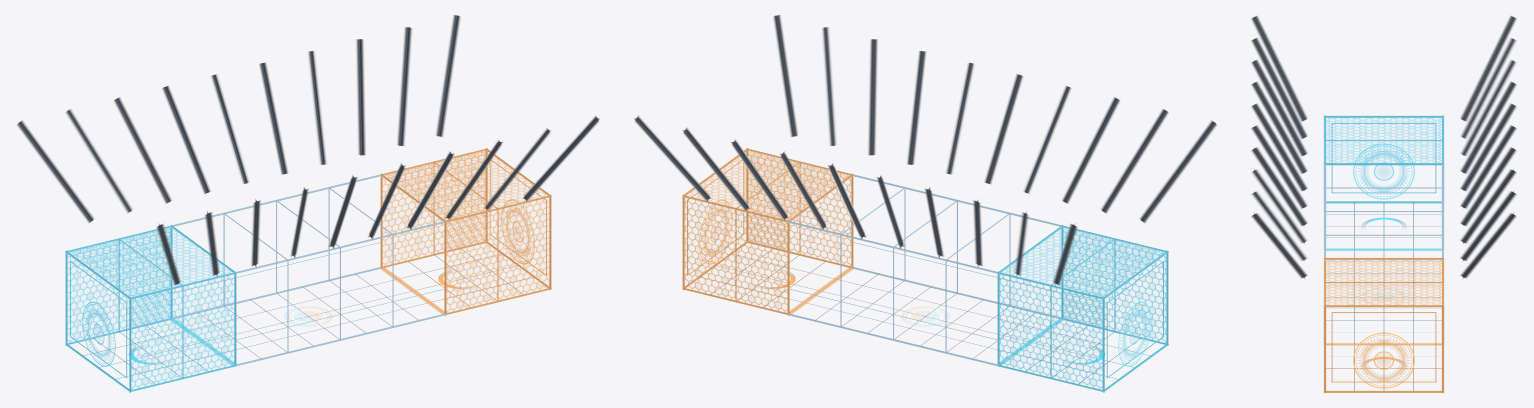
The model's file is A03_court_fx.glb.
3 renders of one model, left to right at view 1: azimuth 30°, elevation 25°; view 2: azimuth 150°, elevation 25°; view 3: azimuth 270°, elevation 25°, orthographic. The views are drawn at different scales.
Parts seen in each view (by area): view 1: court_fx; view 2: court_fx; view 3: court_fx.
Part boxes in pixels (x1=…): court_fx: x1=17, y1=15, x2=599, y2=392; court_fx: x1=634, y1=15, x2=1216, y2=392; court_fx: x1=1251, y1=16, x2=1516, y2=392.
Size of the model in its own units: 20.35 by 8.72 by 11.53.
Materials: 12 (12 with a texture image).
